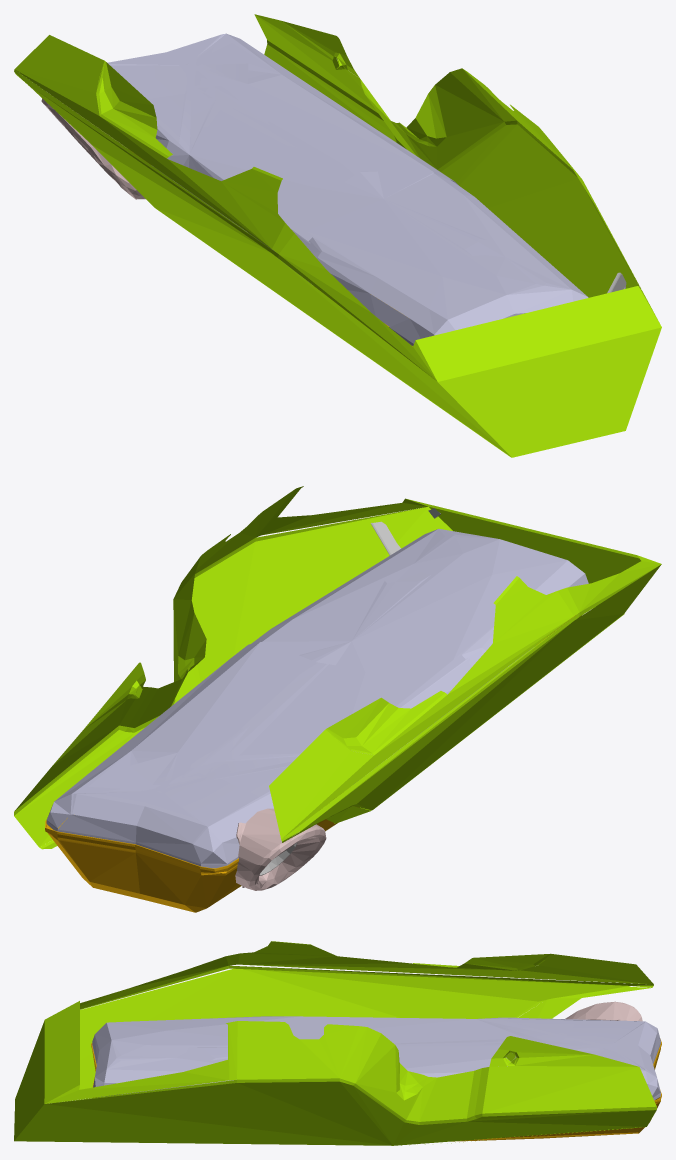
Rendered from motuochedibu.fbx.
The picture shows the model from 3 angles, top to bottom: view 1: azimuth 30°, elevation 25°; view 2: azimuth 150°, elevation 25°; view 3: azimuth 270°, elevation 25°; orthographic projection. The views are drawn at different scales.
Size of the model in its own units: 34.12 by 20.25 by 79.44.
